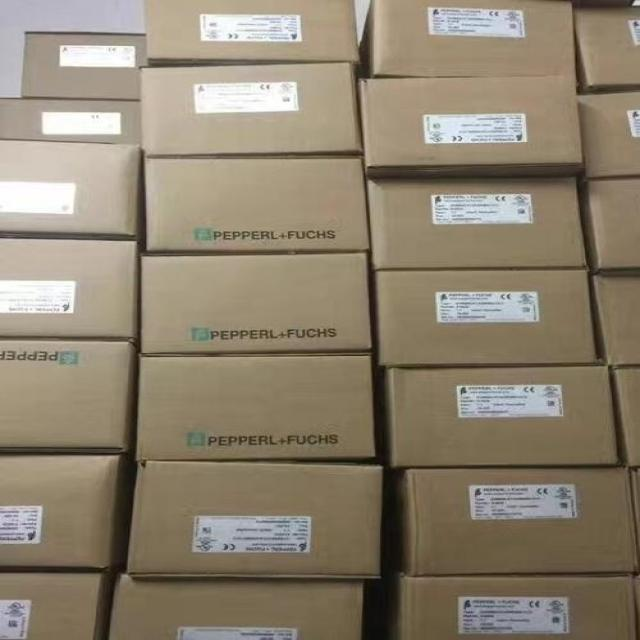box: (123, 458, 384, 578), (381, 468, 640, 579), (128, 352, 383, 462), (375, 365, 622, 468), (137, 249, 379, 352), (137, 154, 372, 254), (356, 75, 582, 175), (376, 268, 604, 367), (137, 60, 365, 157), (367, 175, 591, 268), (366, 573, 640, 640), (351, 0, 575, 79), (105, 574, 370, 638), (0, 338, 140, 457), (0, 457, 125, 571), (146, 0, 360, 65), (0, 239, 138, 339), (0, 141, 137, 241), (22, 30, 148, 99), (0, 572, 122, 638), (575, 86, 640, 179), (573, 4, 640, 92), (0, 99, 138, 141), (581, 173, 640, 269), (593, 268, 640, 367), (604, 365, 640, 469)
